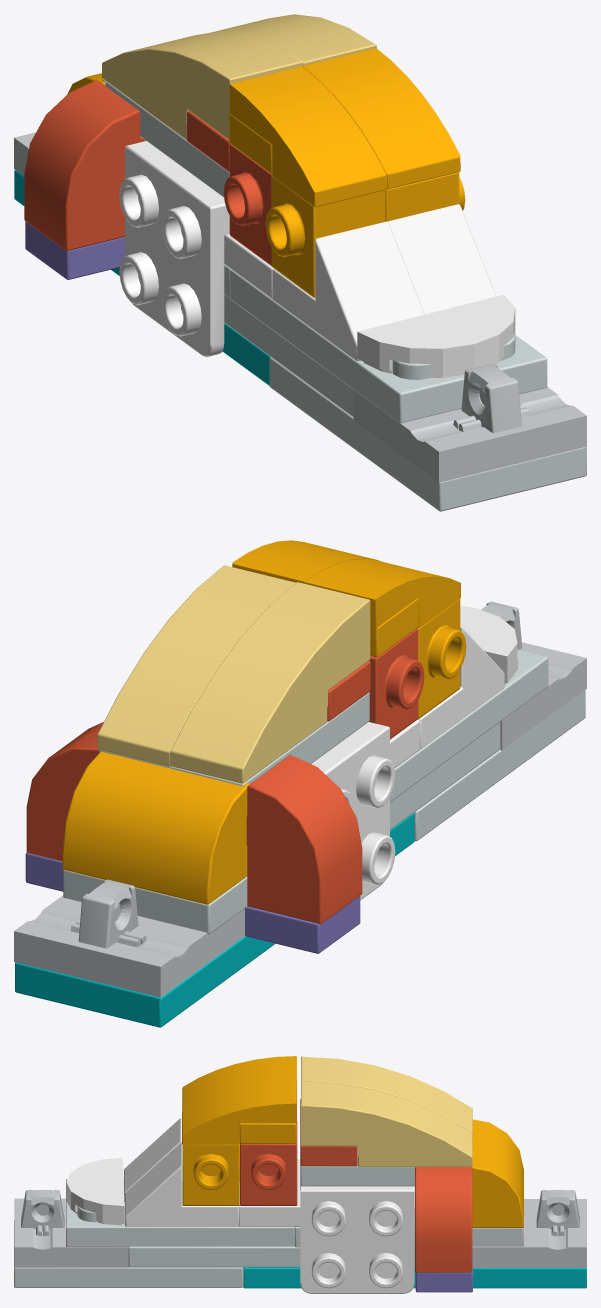
File: Passo22.fbx
The picture shows the model from 3 angles, top to bottom: view 1: azimuth 30°, elevation 25°; view 2: azimuth 150°, elevation 25°; view 3: azimuth 270°, elevation 25°; orthographic projection. The views are drawn at different scales.
Visible parts, largest first — view 1: Bracket__1x2__1_.005, Hinge_plate_2x2__1_.010, Brick_cuved_1x2x1__1_.006, Slope_curved_2x1, Slope_curved_3x1__1_, Slope_2x1_2__1_.007, Slope_curved_2x1__1_, Plate_2x4__2_.009, Plate_2x4__1__1.009, Tile_round_1x2.014, Slope_2x1_2.007, Brick_special_1x1__1_.002 (+10 smaller); view 2: Slope_curved_3x1__1_, Brick_curved_2x1.008, Brick_cuved_1x2x1__1_.006, Slope_curved_3x1.004, Hinge_plate_2x2.012, Plate_2x6.012, Bracket__1x2__1_.005, Slope_curved_2x1, Plate_2x4__2_.009, Brick_cuved_1x2x1.006, Plate_2x4__1__1.009, Plate_1x4.011 (+12 smaller); view 3: Bracket__1x2.005, Slope_curved_3x1.004, Brick_cuved_1x2x1.006, Hinge_plate_2x2.012, Plate_2x4__2_.009, Slope_curved_2x1__1_, Hinge_plate_2x2__1_.010, Brick_curved_2x1.008, Plate_2x4__1__1.009, Slope_2x1_2.007, Slope_curved_3x1__1_, Plate_2x4.011 (+12 smaller).
Boxes of the visible parts, x1,y1,x2,y2 form: Bracket__1x2__1_.005: (119, 141, 229, 357); Hinge_plate_2x2__1_.010: (353, 363, 586, 482); Brick_cuved_1x2x1__1_.006: (24, 80, 145, 250); Slope_curved_2x1: (229, 66, 387, 207); Slope_curved_3x1__1_: (102, 31, 303, 139); Slope_2x1_2__1_.007: (272, 221, 424, 360); Slope_curved_2x1__1_: (302, 48, 460, 189); Plate_2x4__2_.009: (230, 269, 547, 423); Plate_2x4__1__1.009: (269, 357, 586, 511); Tile_round_1x2.014: (357, 294, 515, 377); Slope_2x1_2.007: (388, 204, 496, 314); Brick_special_1x1__1_.002: (265, 175, 385, 297); Slope_curved_3x1__1_: (170, 582, 370, 783); Brick_curved_2x1.008: (62, 751, 249, 904); Brick_cuved_1x2x1__1_.006: (246, 755, 362, 924); Slope_curved_3x1.004: (97, 565, 295, 766); Hinge_plate_2x2.012: (14, 879, 244, 997); Plate_2x6.012: (15, 813, 414, 1027); Bracket__1x2__1_.005: (311, 722, 395, 900); Slope_curved_2x1: (303, 558, 460, 628); Plate_2x4__2_.009: (390, 649, 548, 802); Brick_cuved_1x2x1.006: (26, 722, 103, 861); Plate_2x4__1__1.009: (414, 690, 585, 841); Plate_1x4.011: (25, 852, 360, 953); Bracket__1x2.005: (300, 1185, 414, 1293); Slope_curved_3x1.004: (301, 1081, 472, 1166); Brick_cuved_1x2x1.006: (415, 1167, 472, 1272); Hinge_plate_2x2.012: (472, 1190, 586, 1267); Plate_2x4__2_.009: (66, 1179, 294, 1246); Slope_curved_2x1__1_: (182, 1079, 296, 1144); Hinge_plate_2x2__1_.010: (14, 1189, 128, 1267); Brick_curved_2x1.008: (472, 1119, 523, 1227); Plate_2x4__1__1.009: (14, 1220, 242, 1287); Slope_2x1_2.007: (125, 1142, 238, 1226); Slope_curved_3x1__1_: (301, 1056, 472, 1133); Plate_2x4.011: (128, 1246, 300, 1267).
Bounding box in the file's own units: 0.3217 × 0.2876 × 0.8002.
